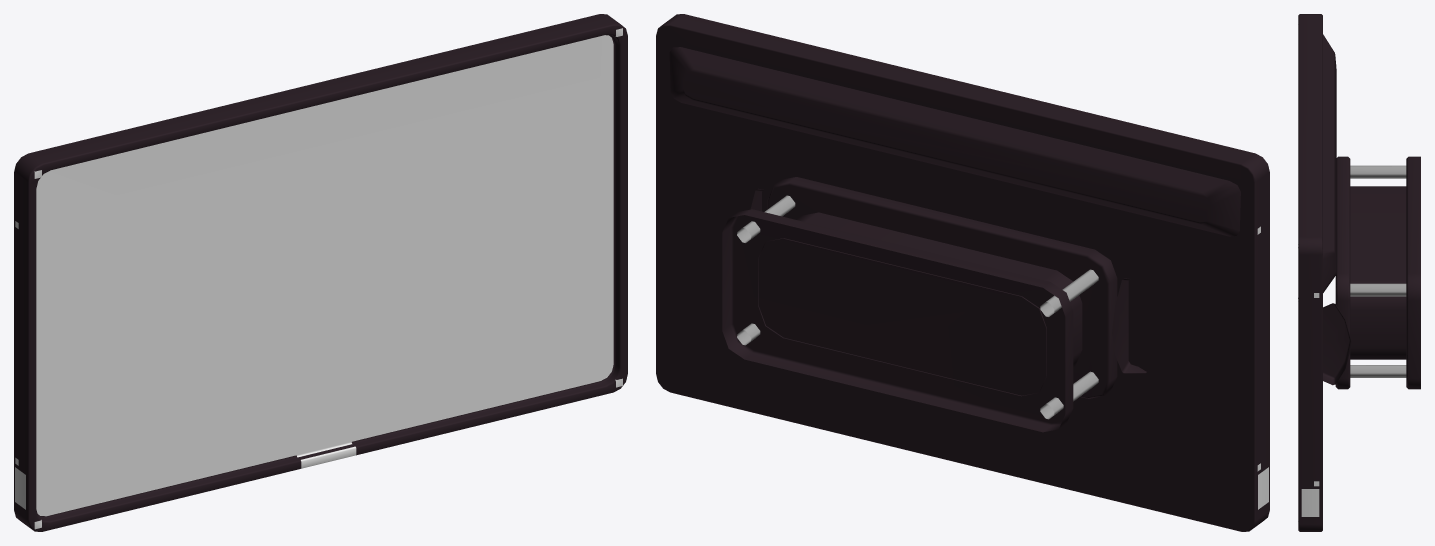
The model's file is CipherTVTest.fbx.
The picture shows the model from 3 angles, left to right: view 1: azimuth 30°, elevation 25°; view 2: azimuth 150°, elevation 25°; view 3: azimuth 270°, elevation 25°; orthographic projection. The views are drawn at different scales.
Parts seen in each view (by area): view 1: Cube.083, StylizedHardSurface_Decals_058.003_projected; view 2: Cube.083, Cube.084; view 3: Cube.084, Cube.083, StylizedHardSurface_Decals_063.008_projected.
Boxes of the visible parts, left/top/right/bottom form: Cube.083: left=14, top=14, right=627, bottom=531; StylizedHardSurface_Decals_058.003_projected: left=296, top=440, right=356, bottom=468; Cube.083: left=656, top=14, right=1269, bottom=531; Cube.084: left=722, top=177, right=1148, bottom=432; Cube.084: left=1323, top=156, right=1420, bottom=389; Cube.083: left=1298, top=14, right=1336, bottom=531; StylizedHardSurface_Decals_063.008_projected: left=1301, top=489, right=1319, bottom=516.
Bounding box in the file's own units: 350 × 205 × 77.9.
